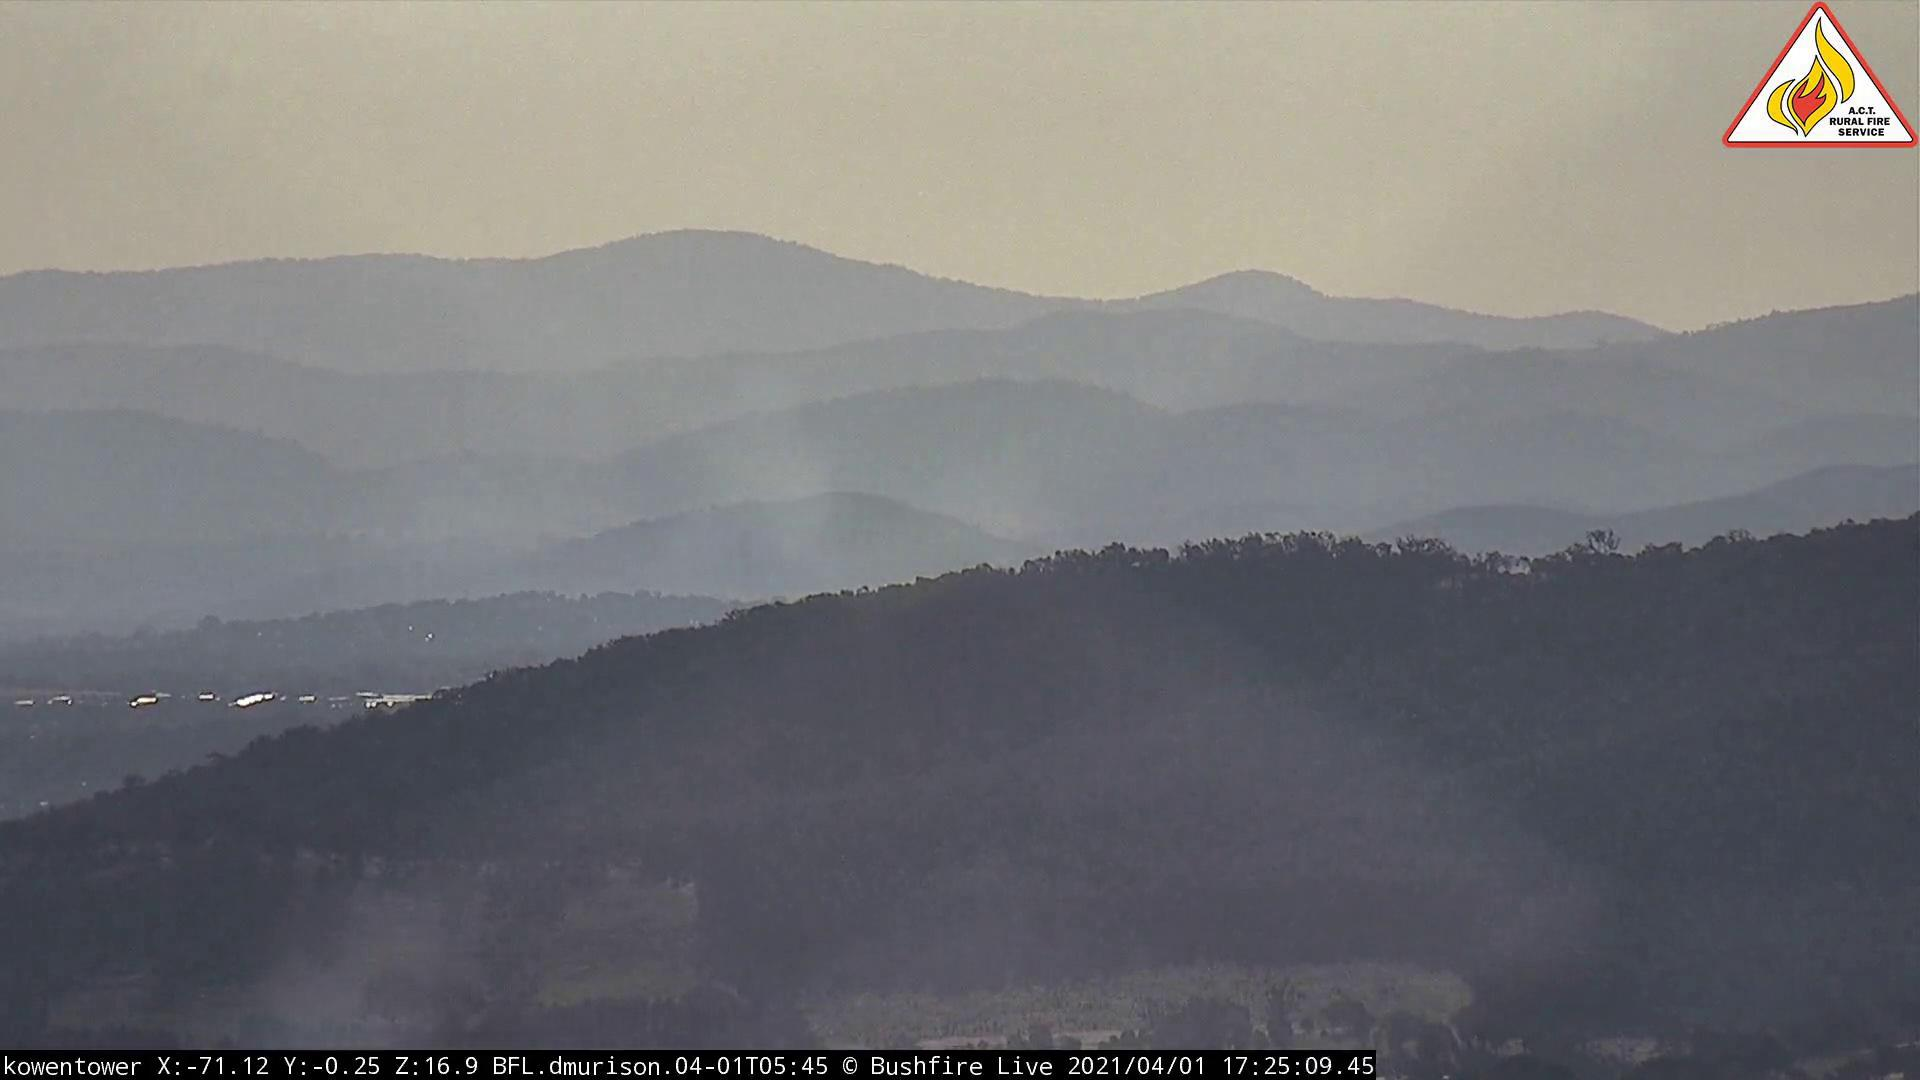Smoke: (539, 410, 1000, 653)
